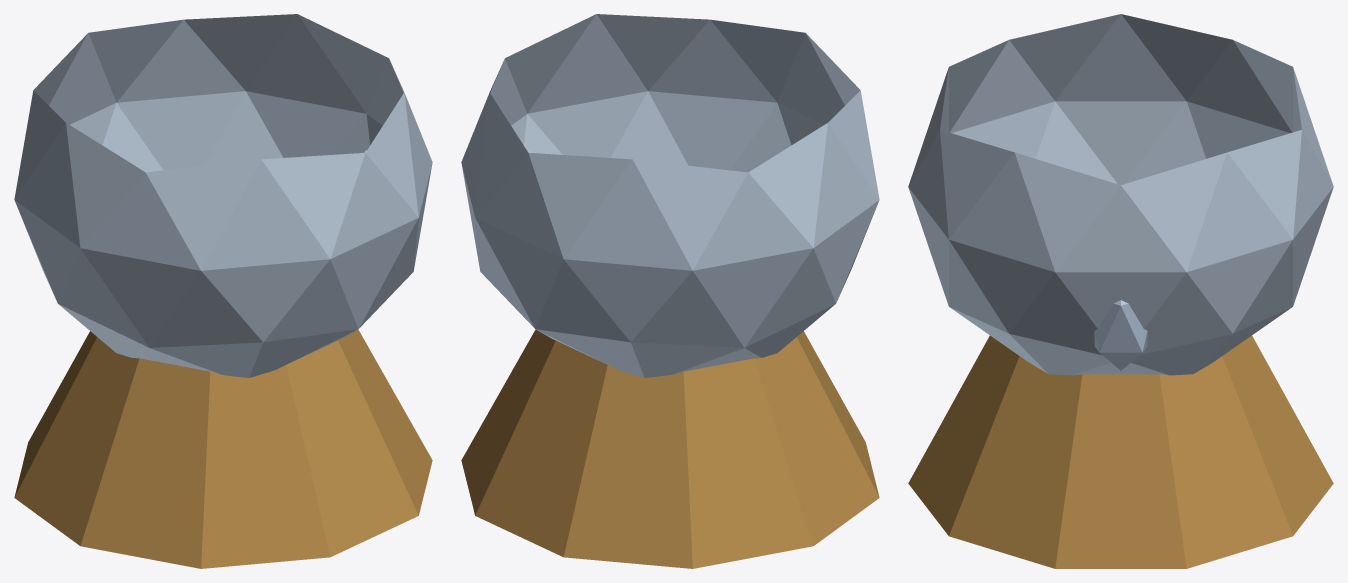
Rendered from Frozen_Treat.glb.
The picture shows the model from 3 angles, left to right: view 1: azimuth 30°, elevation 25°; view 2: azimuth 150°, elevation 25°; view 3: azimuth 270°, elevation 25°; orthographic projection.
Visible parts, largest first — view 1: _I_FrozenTreat; view 2: _I_FrozenTreat; view 3: _I_FrozenTreat.
Boxes of the visible parts, bbox=[...] form: _I_FrozenTreat: bbox=[14, 14, 432, 568]; _I_FrozenTreat: bbox=[461, 14, 879, 568]; _I_FrozenTreat: bbox=[908, 14, 1333, 568].
Size of the model in its own units: 0.1236 by 0.1325 by 0.13.
